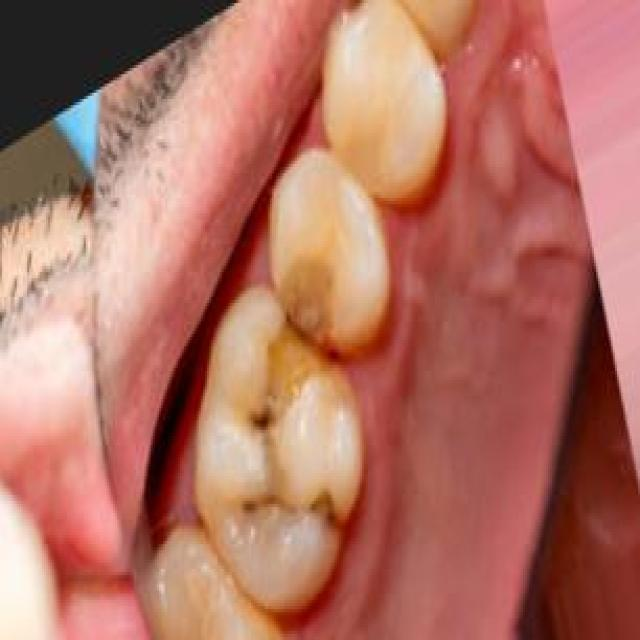caries: (224, 244, 354, 446), (232, 456, 348, 565)
